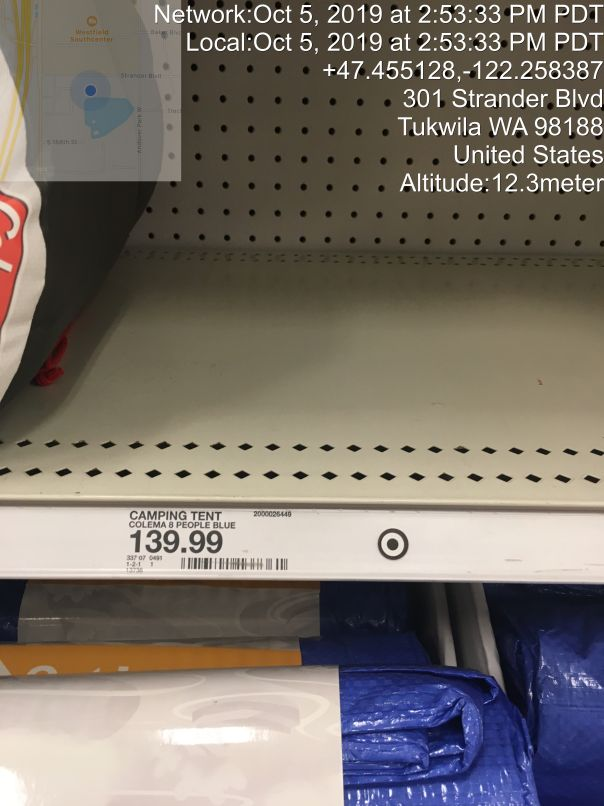Label: (116, 503, 303, 582)
Location: (386, 83, 604, 168)
Time: (147, 3, 604, 56)
Void: (62, 73, 556, 451)
